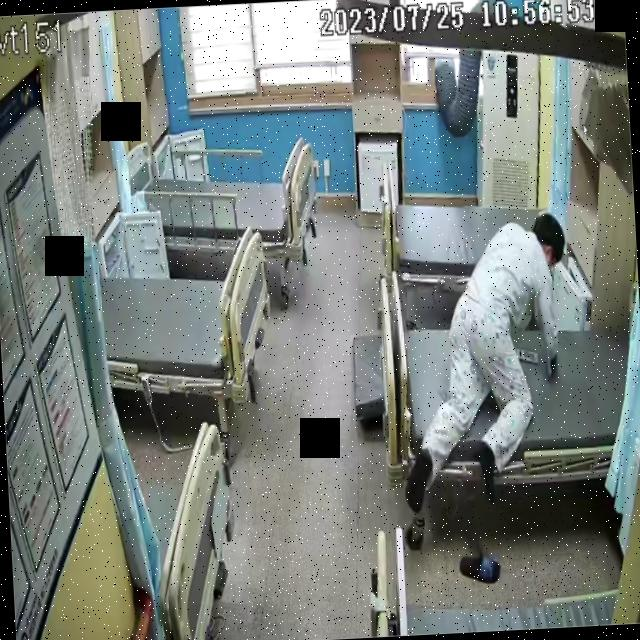bed: (374, 259, 638, 495), (378, 140, 572, 306), (102, 230, 274, 404), (144, 142, 318, 266)
danger: (390, 213, 579, 520)
patient: (390, 212, 580, 520)
